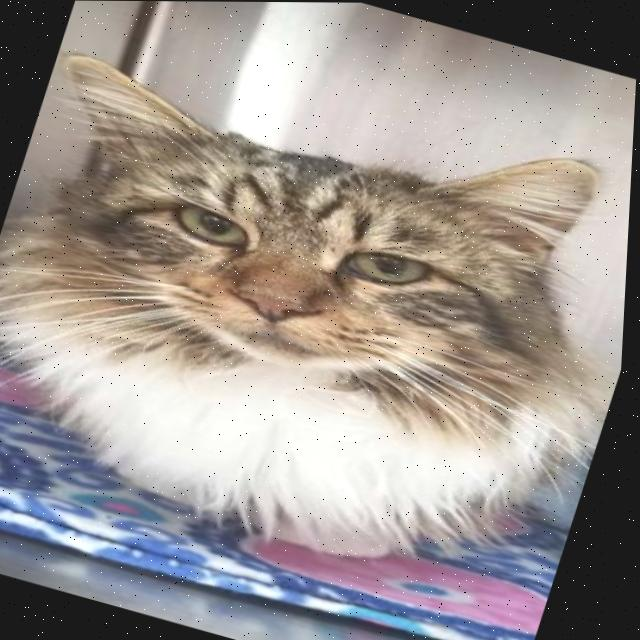Maine Coon: (0, 17, 639, 613)
